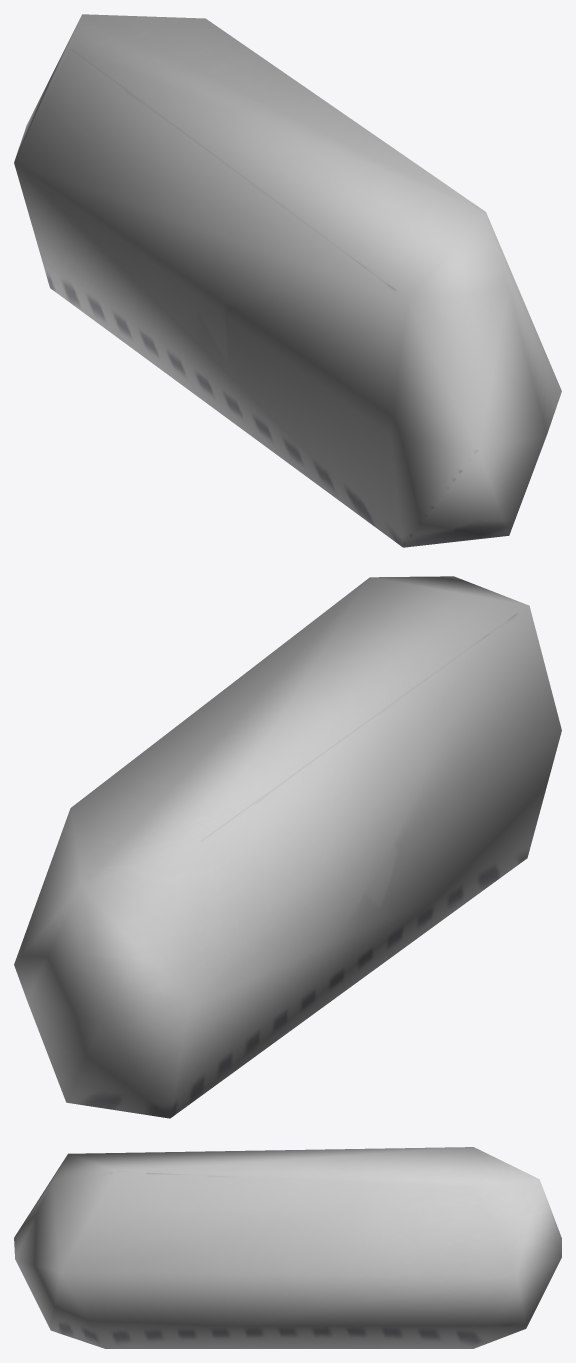
The model's file is Head_C2.fbx.
3 renders of one model, top to bottom at view 1: azimuth 30°, elevation 25°; view 2: azimuth 150°, elevation 25°; view 3: azimuth 270°, elevation 25°, orthographic. The views are drawn at different scales.
Visible parts, largest first — view 1: Civ_Rulos_Head_C2; view 2: Civ_Rulos_Head_C2; view 3: Civ_Rulos_Head_C2.
Part boxes in pixels (x1,y1,x2,y2): Civ_Rulos_Head_C2: (14, 14, 561, 547); Civ_Rulos_Head_C2: (14, 576, 561, 1118); Civ_Rulos_Head_C2: (14, 1147, 561, 1348).
Bounding box in the file's own units: 0.0899 × 0.1539 × 0.3988.
